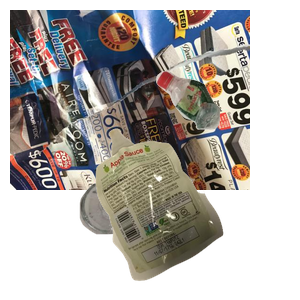glass: (77, 178, 205, 300)
paper: (10, 10, 250, 190)
plastic: (153, 68, 300, 190)
trash: (93, 126, 300, 300)
